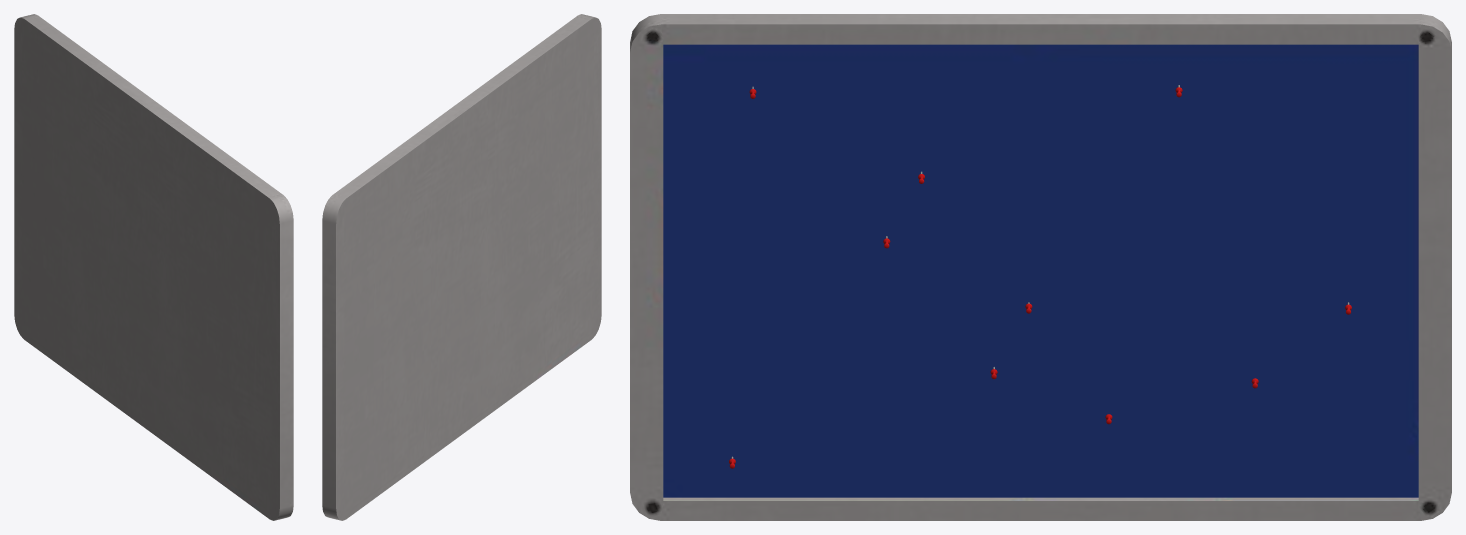
Rendered from noticeboard.glb.
The picture shows the model from 3 angles, left to right: view 1: azimuth 30°, elevation 25°; view 2: azimuth 150°, elevation 25°; view 3: azimuth 270°, elevation 25°; orthographic projection. The views are drawn at different scales.
Parts seen in each view (by area): view 1: SM_notice_board; view 2: SM_notice_board; view 3: SM_notice_board.
Boxes of the visible parts, x1,y1,x2,y2 form: SM_notice_board: (14,14,293,520); SM_notice_board: (322,14,601,520); SM_notice_board: (630,14,1451,520).
Bounding box in the file's own units: 4.3 × 60 × 90.
1 material, 1 textured.
